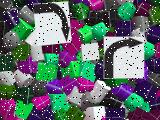Right: (104, 36, 144, 78), (33, 2, 71, 46)
